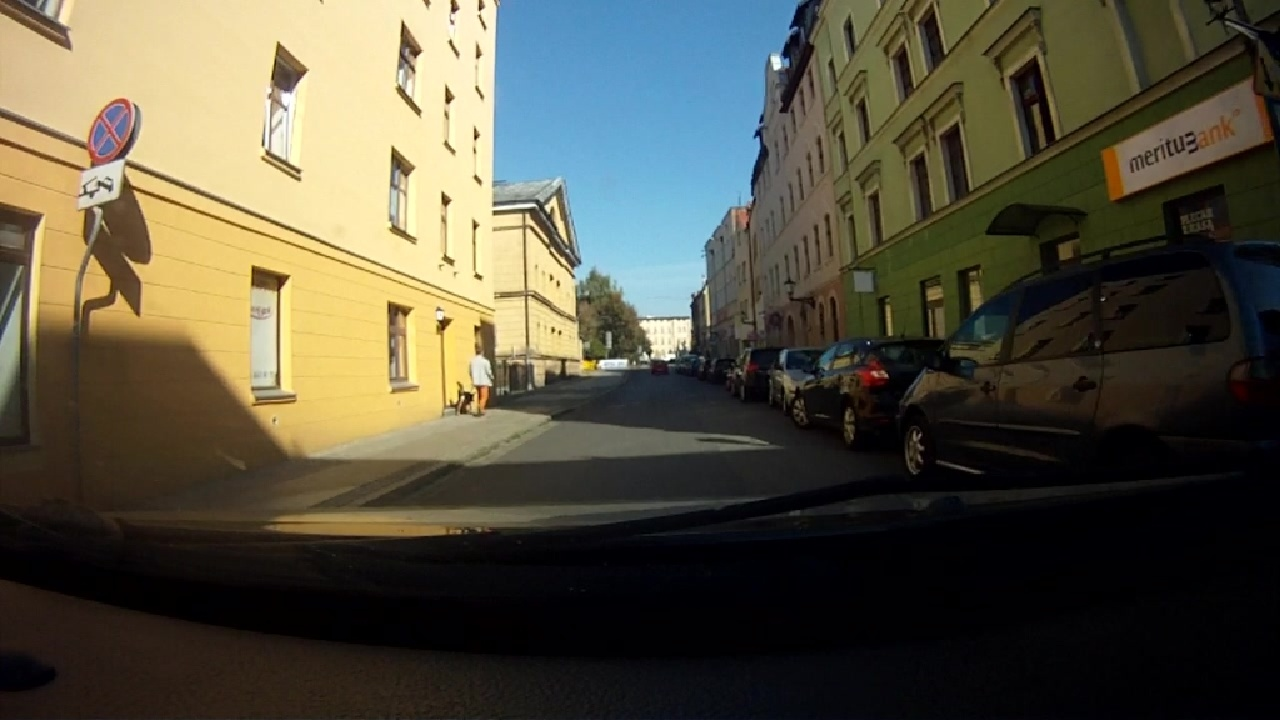B36: (87, 98, 136, 164)
